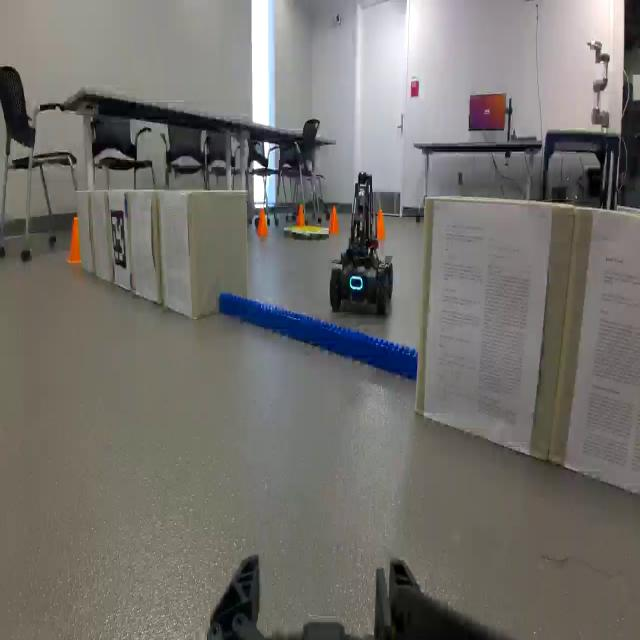cone: (62, 214, 85, 272), (373, 208, 388, 244), (256, 209, 270, 239), (329, 207, 341, 235), (296, 204, 306, 224)
river: (219, 287, 420, 383)
robot: (326, 171, 396, 323)
storage cube: (413, 187, 539, 461), (541, 200, 639, 504), (149, 186, 244, 322), (128, 192, 160, 299), (106, 186, 130, 292), (90, 191, 112, 284), (75, 187, 93, 273)
yellow goal: (283, 222, 334, 242)
